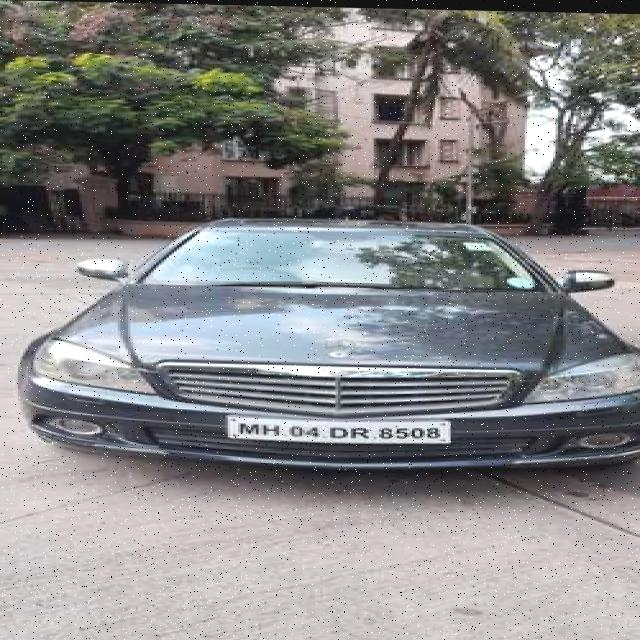plate: (226, 416, 449, 442)
